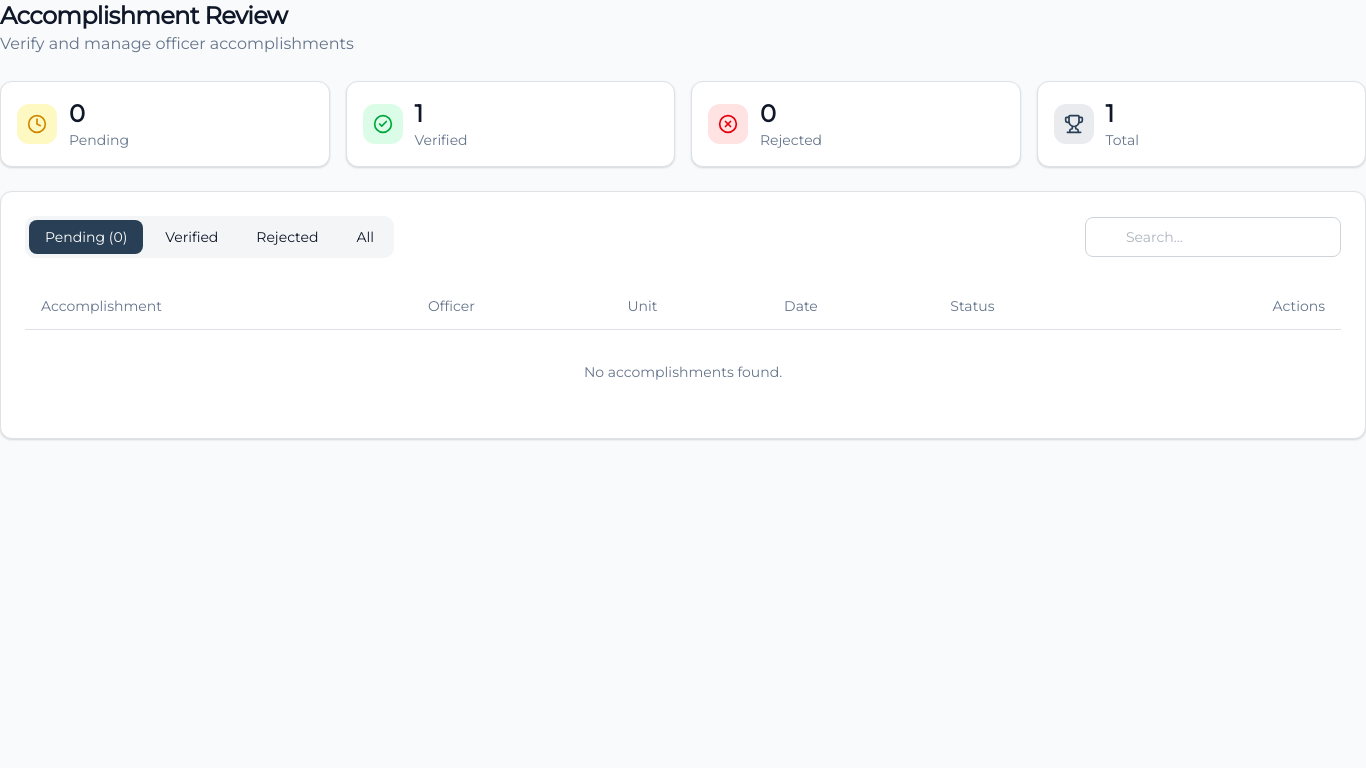
Test: Accomplishment Verification Comments (#251) › displays Verification Notes on verified accomplishment in Admin review dialog
The width and height of the screenshot is (1366, 768).
Switch to All tab to view verified item
Click the tab "All" at x=365, y=237, box [340, 220, 390, 254]
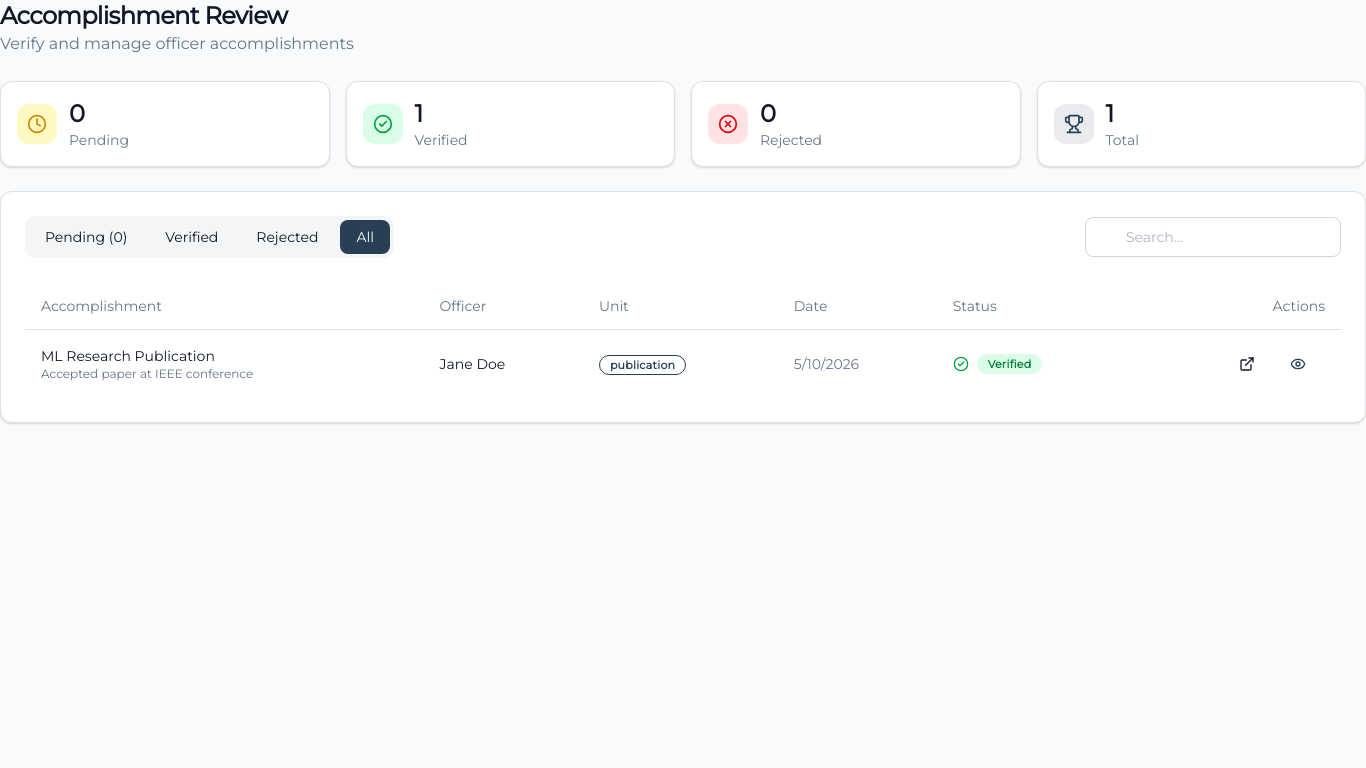
Result: the button is shown
Click the button at x=1298, y=364, box [1271, 346, 1325, 382]
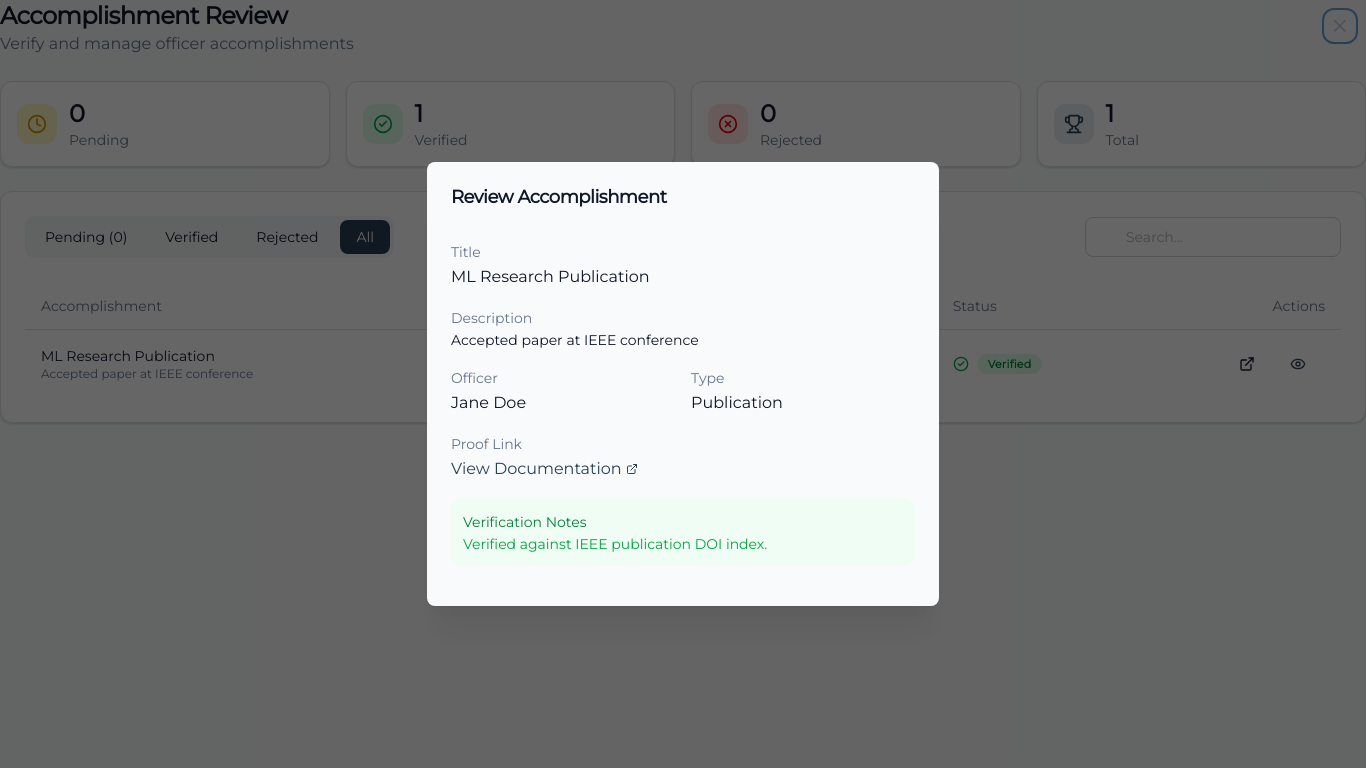
Result: the text "Verification Notes" is shown at [463, 512, 586, 532]
Result: the text "Verified against IEEE publication DOI index." is shown at [463, 535, 767, 553]
